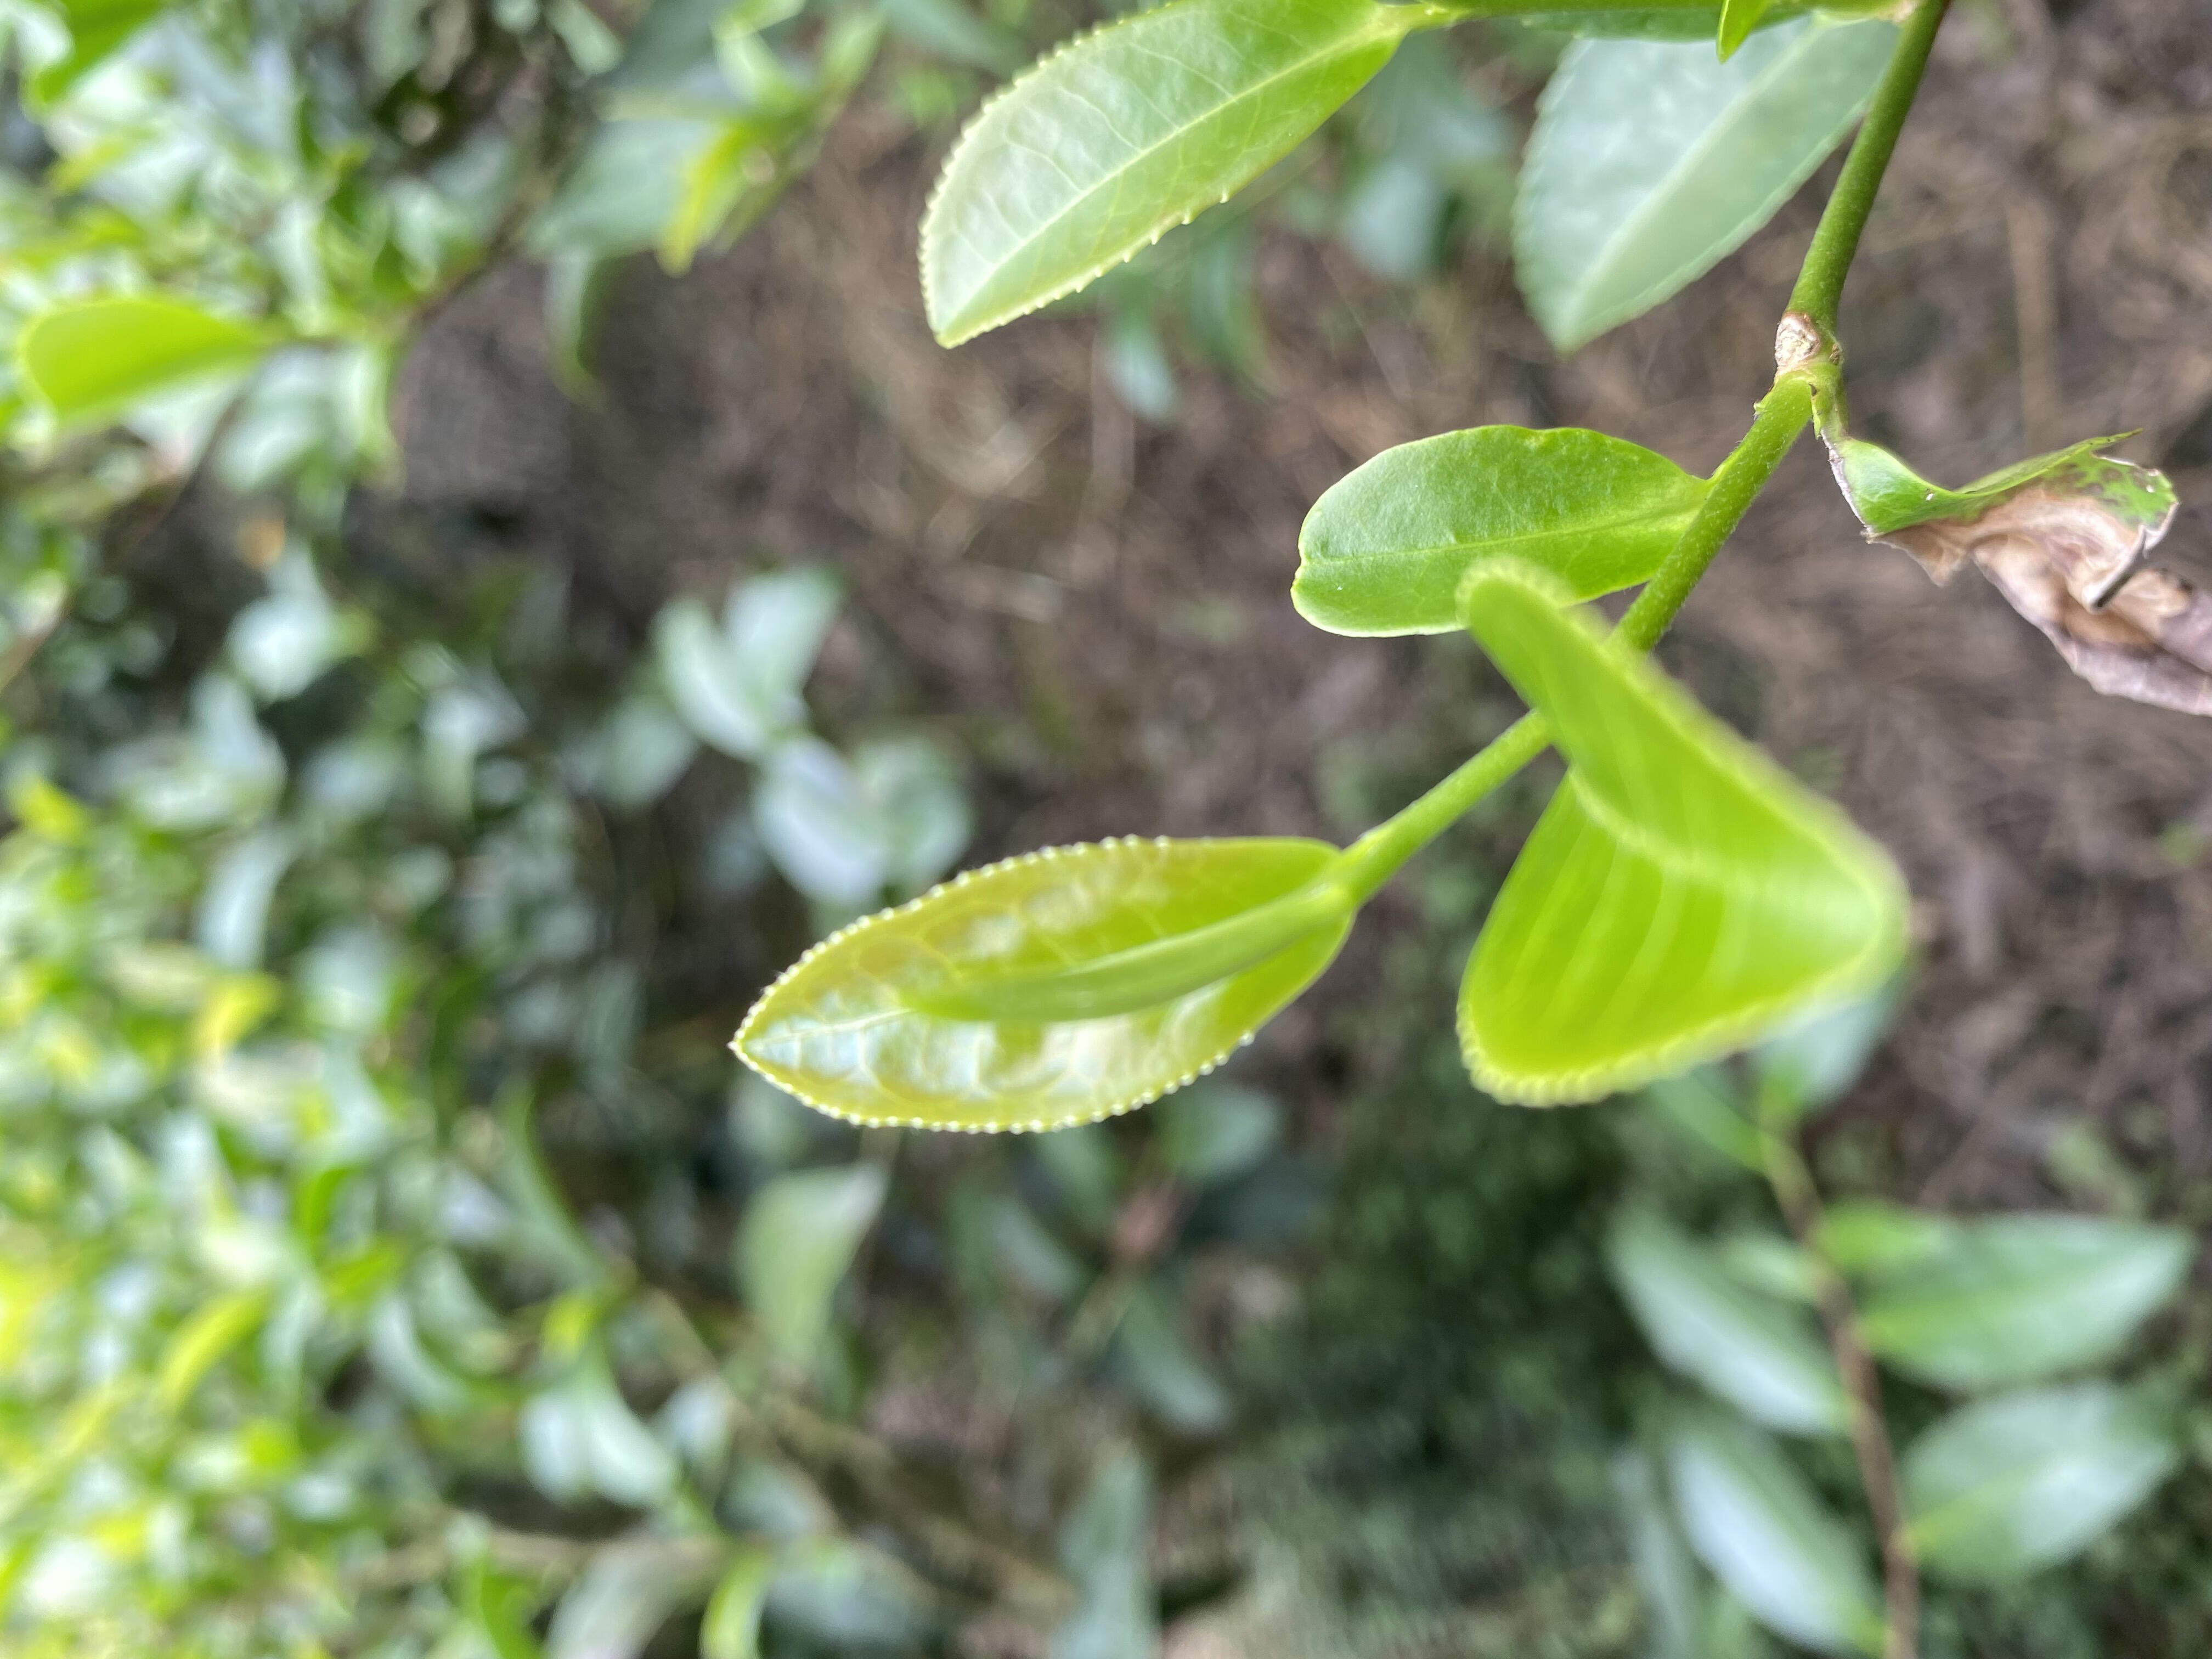healthy: (1451, 558, 1904, 1107), (732, 833, 1353, 1136), (914, 3, 1426, 350), (1291, 422, 1717, 641)
tanju_high: (1810, 427, 2210, 721)
